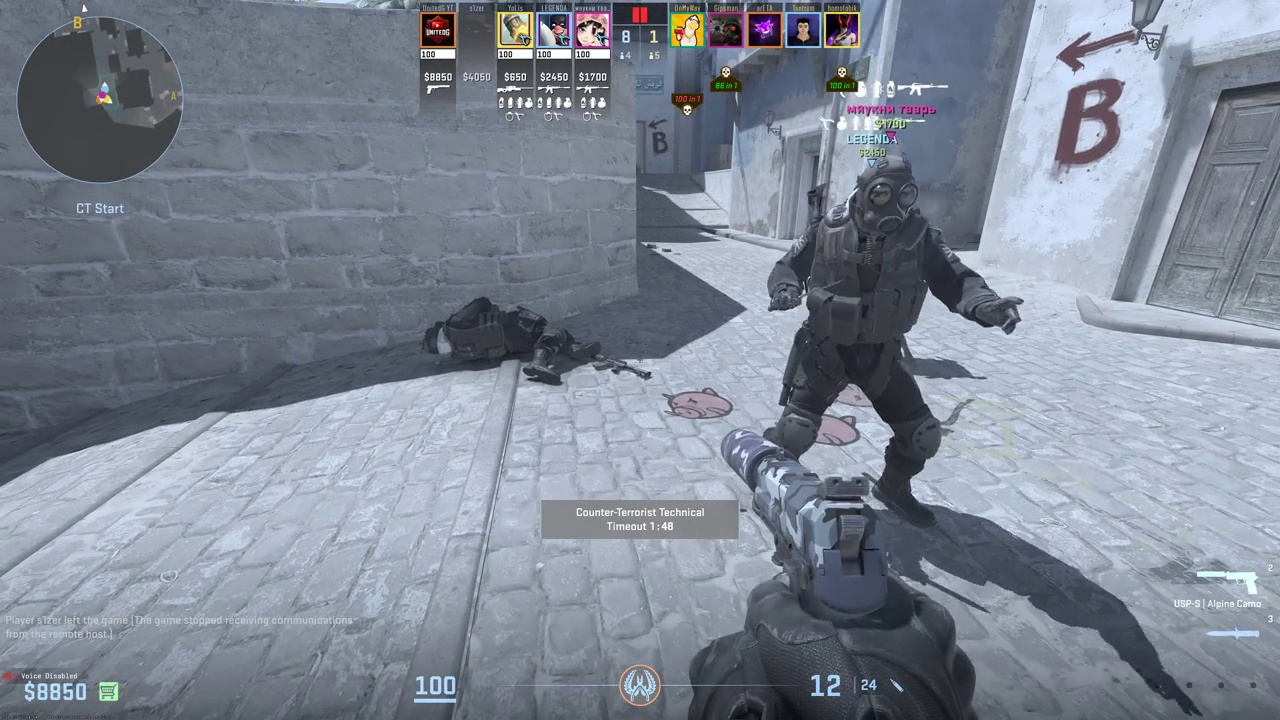CT: (775, 154, 954, 519)
